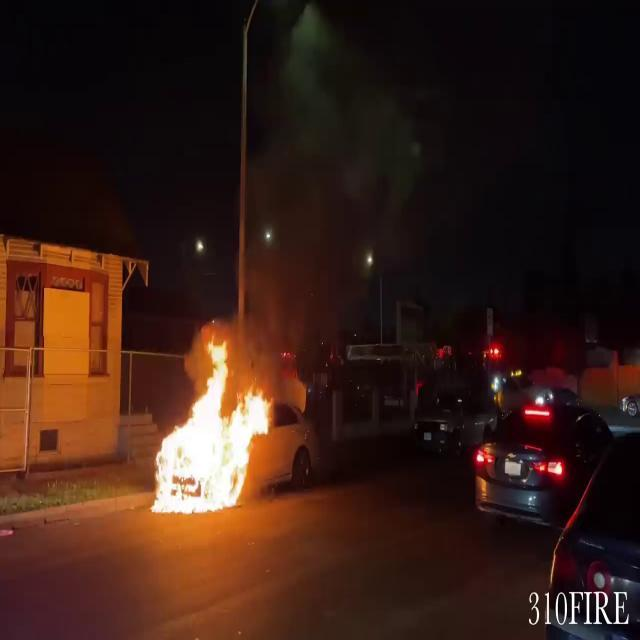Fire: (148, 327, 277, 517)
Smoke: (215, 26, 420, 334)
